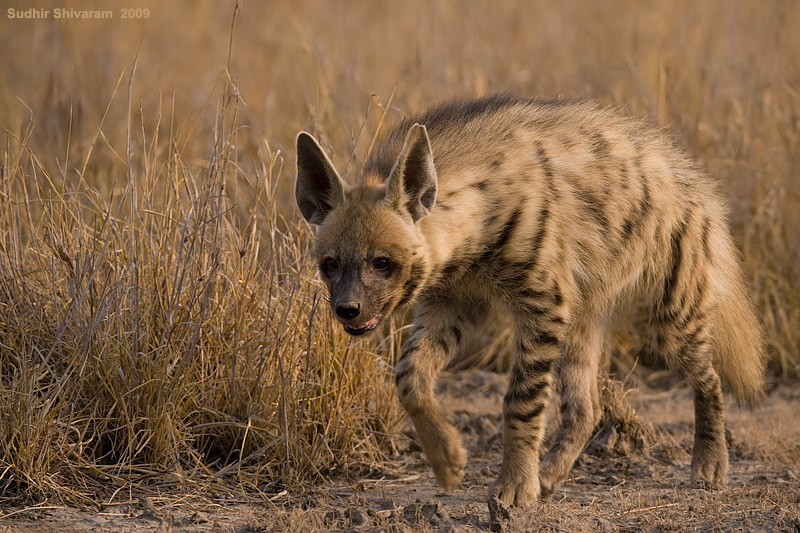hyena: (291, 96, 766, 520)
